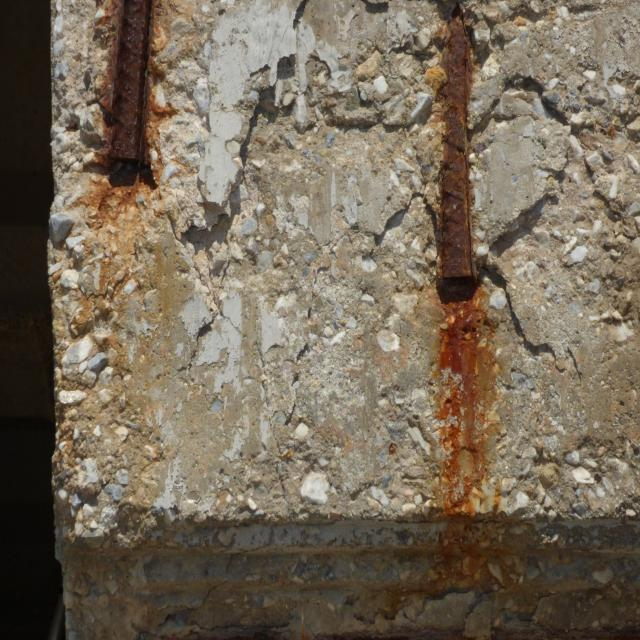corrosion: (401, 10, 538, 607), (81, 0, 189, 314)
